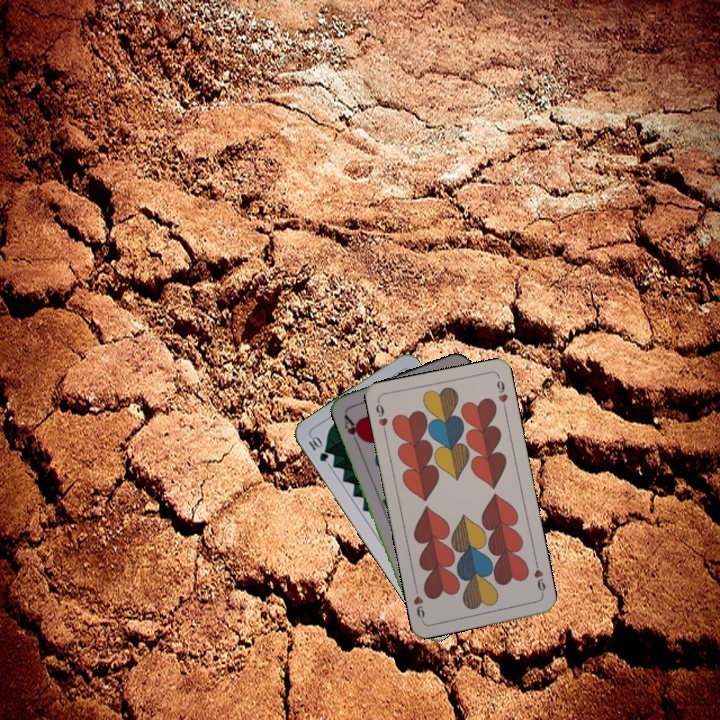G10: (304, 432, 331, 464)
H9: (372, 397, 390, 437), (530, 558, 548, 598)
HA: (340, 409, 366, 448)
